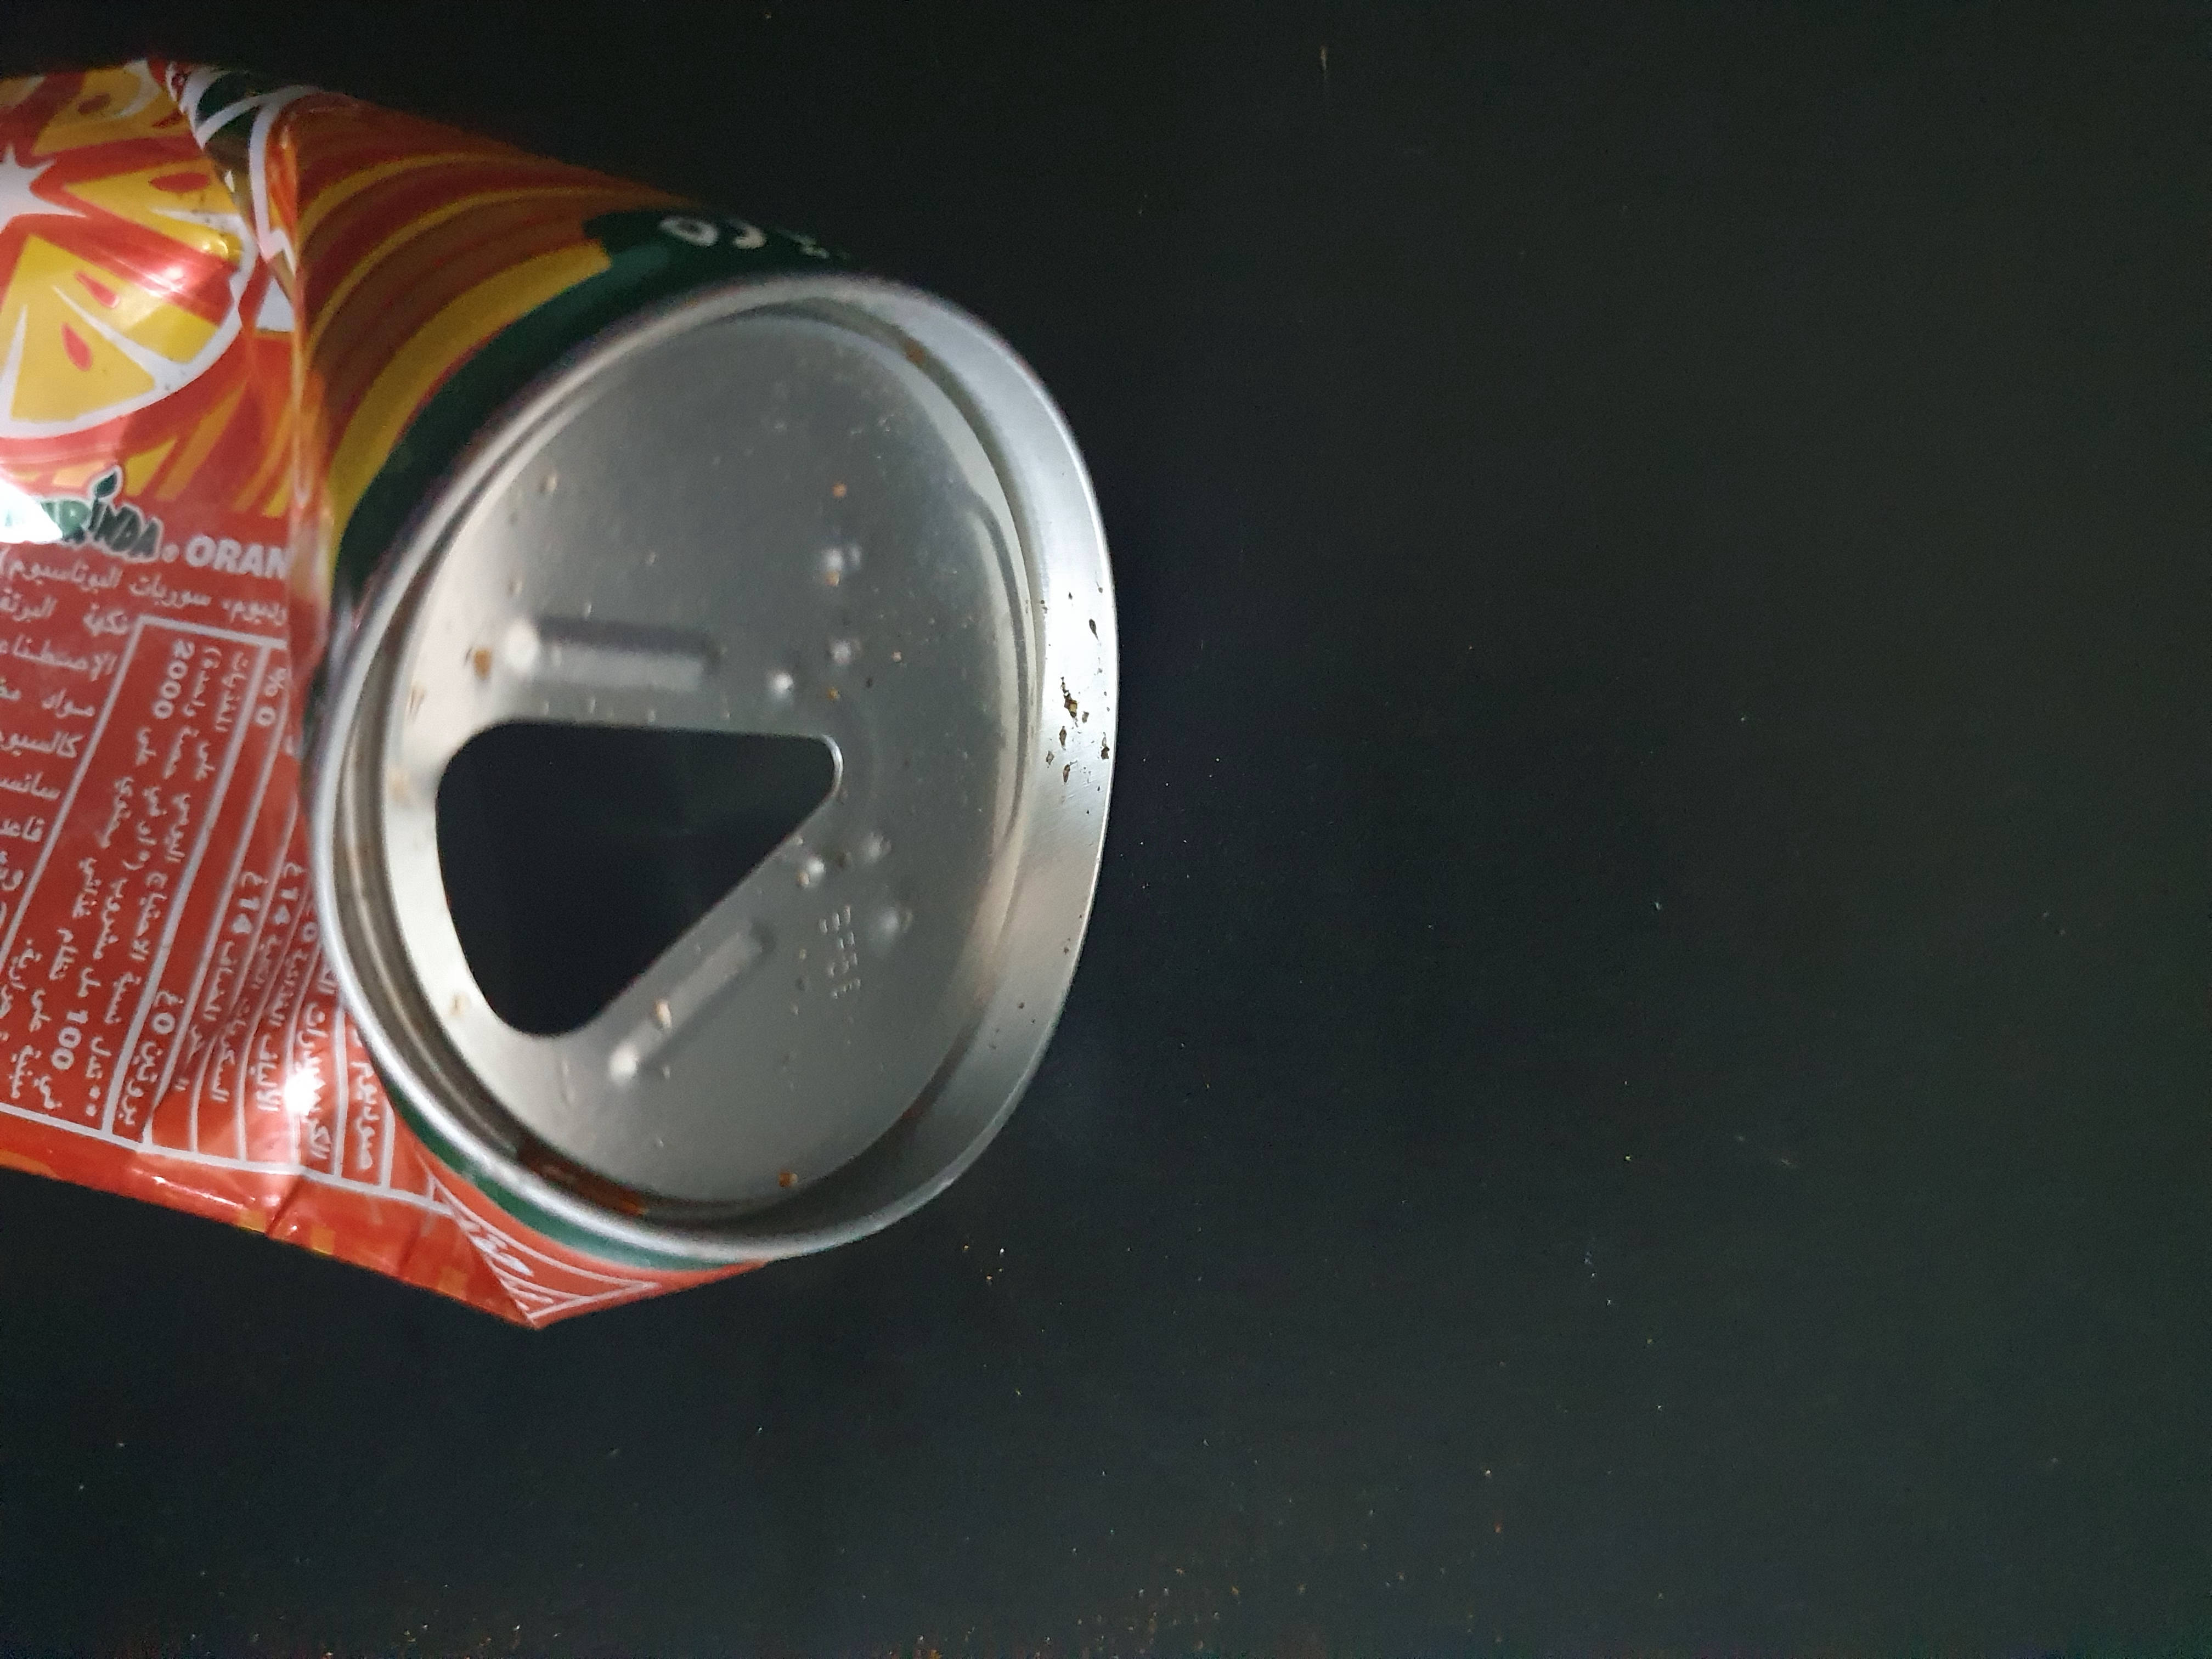metal: (0, 0, 1148, 1368)
